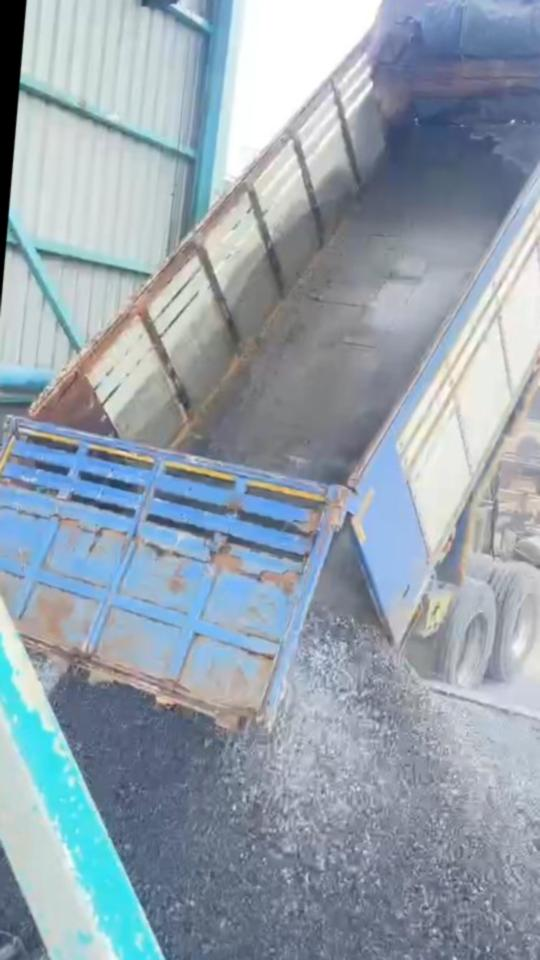gravel: (54, 611, 540, 960), (0, 793, 35, 943)
